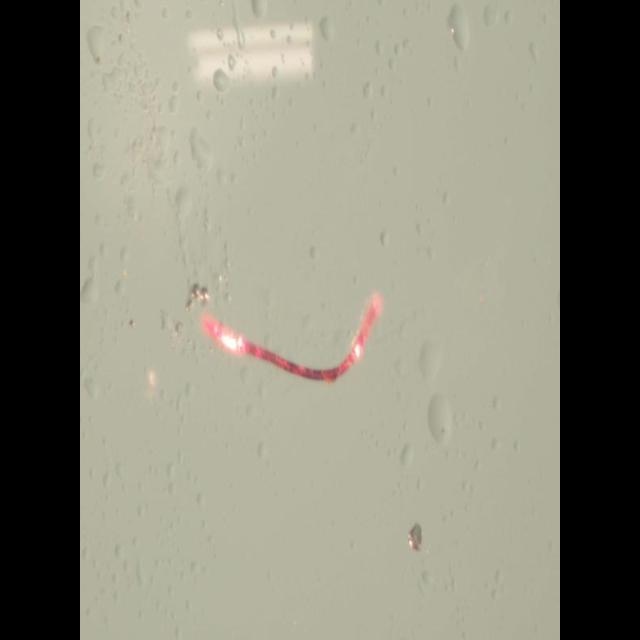Fibre: (201, 288, 383, 384)
